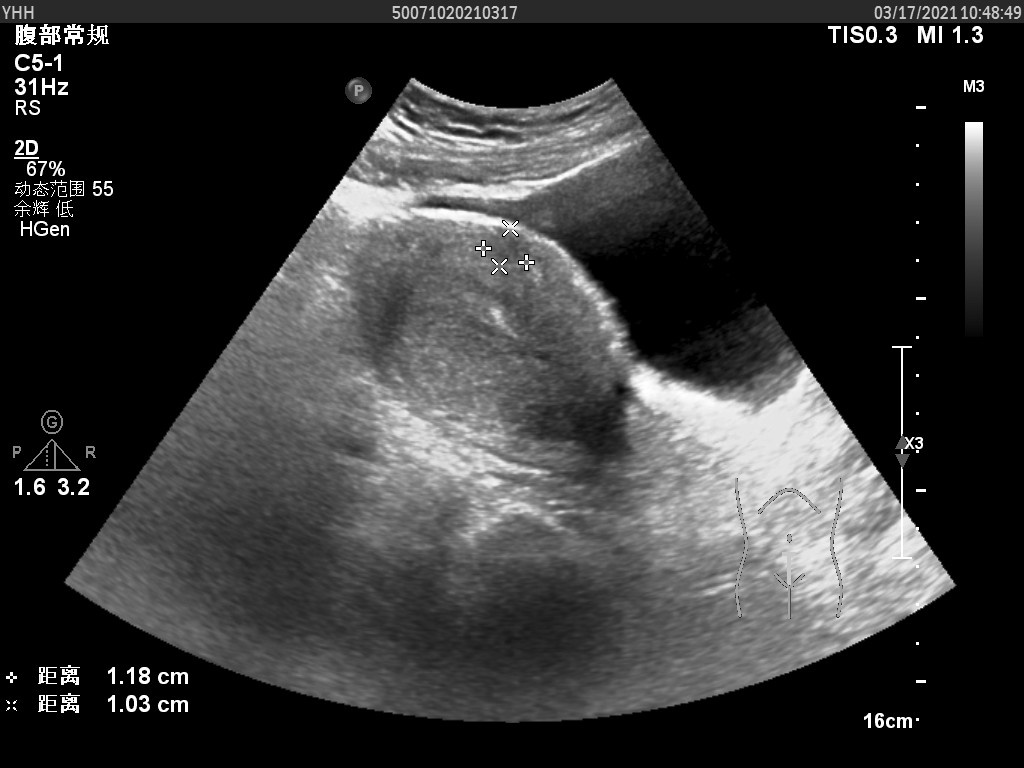肌瘤: (482, 230, 532, 267)
